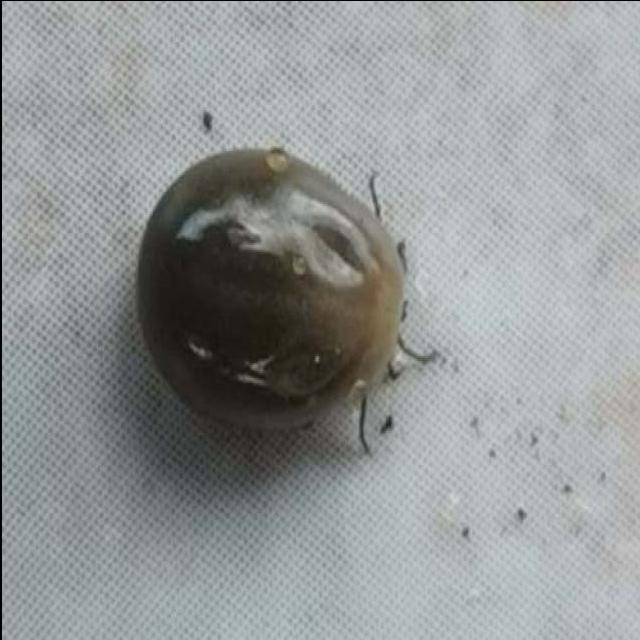Ixodes Ricinus-F-Fed: (132, 143, 434, 444)
